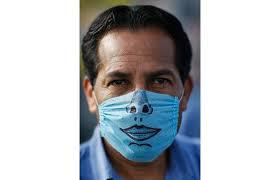OK: (88, 54, 192, 158)
